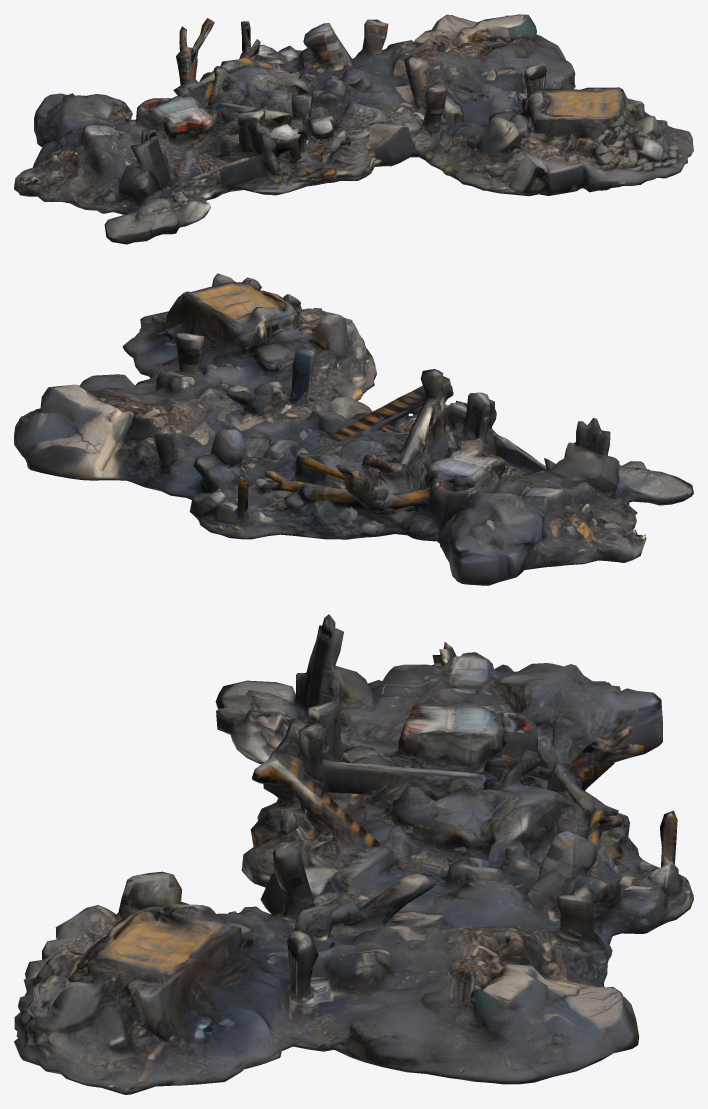
File: CityDebris_2.fbx
3 renders of one model, top to bottom at view 1: azimuth 30°, elevation 25°; view 2: azimuth 150°, elevation 25°; view 3: azimuth 270°, elevation 25°, orthographic. The views are drawn at different scales.
Visible parts, largest first — view 1: Mesh_0; view 2: Mesh_0; view 3: Mesh_0.
Boxes of the visible parts, x1,y1,x2,y2 form: Mesh_0: (14,14,693,244); Mesh_0: (14,273,693,585); Mesh_0: (14,614,693,1094).
Size of the model in its own units: 200 by 26.6 by 136.
Materials: 1 (1 with a texture image).
